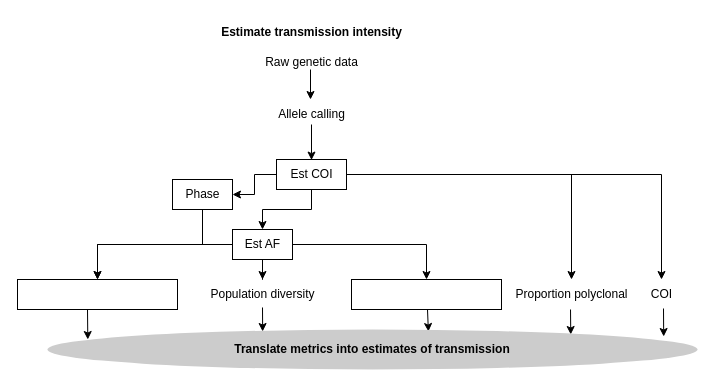
This 715x386 diagram has some shape labels left out. The shapes that lost their labels are listed below. From the top down, each one's centre as x and y in pixels, then its label:
(x=97, y=294): Between host relatedness
(x=426, y=294): Within host relatedness
